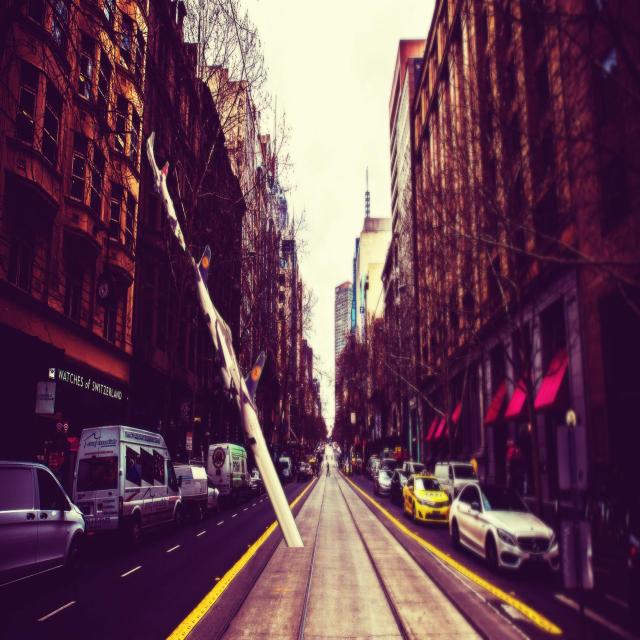airplane: (145, 131, 304, 548)
